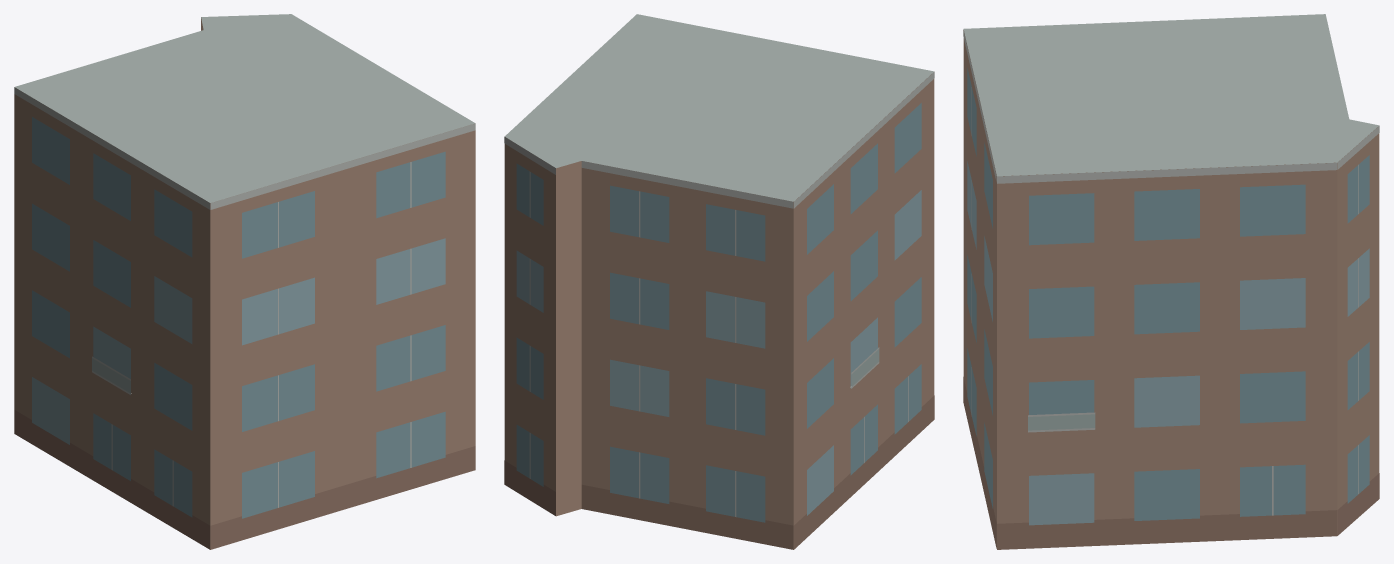
File: residential-55d15f1d-f1ea-48f0-99ad-2c0d511d470d.glb
3 renders of one model, left to right at view 1: azimuth 30°, elevation 25°; view 2: azimuth 150°, elevation 25°; view 3: azimuth 270°, elevation 25°, orthographic. The views are drawn at different scales.
Visible parts, largest first — view 1: residential-55d15f1d-f1ea-48f0-99ad-2c0d511d470d.tmp; view 2: residential-55d15f1d-f1ea-48f0-99ad-2c0d511d470d.tmp; view 3: residential-55d15f1d-f1ea-48f0-99ad-2c0d511d470d.tmp.
Part boxes in pixels (x1=…): residential-55d15f1d-f1ea-48f0-99ad-2c0d511d470d.tmp: x1=14, y1=14, x2=475, y2=549; residential-55d15f1d-f1ea-48f0-99ad-2c0d511d470d.tmp: x1=504, y1=14, x2=934, y2=549; residential-55d15f1d-f1ea-48f0-99ad-2c0d511d470d.tmp: x1=963, y1=14, x2=1379, y2=549.
Size of the model in its own units: 11.38 by 12.2 by 12.32.
